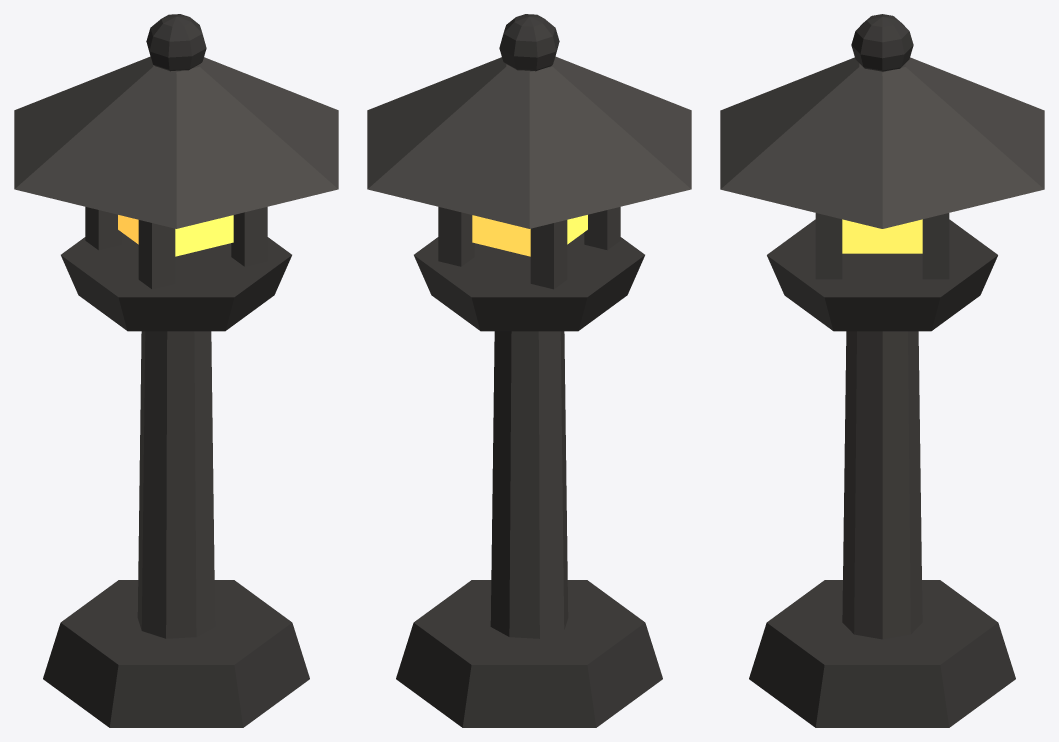
Rendered from lantern.glb.
The picture shows the model from 3 angles, left to right: view 1: azimuth 30°, elevation 25°; view 2: azimuth 150°, elevation 25°; view 3: azimuth 270°, elevation 25°; orthographic projection.
Parts seen in each view (by area): view 1: Lantern; view 2: Lantern; view 3: Lantern.
Boxes of the visible parts, left/top/right/bottom form: Lantern: left=14, top=14, right=338, bottom=727; Lantern: left=367, top=14, right=691, bottom=727; Lantern: left=720, top=14, right=1044, bottom=727.
Size of the model in its own units: 0.84 by 1.64 by 0.7275.
